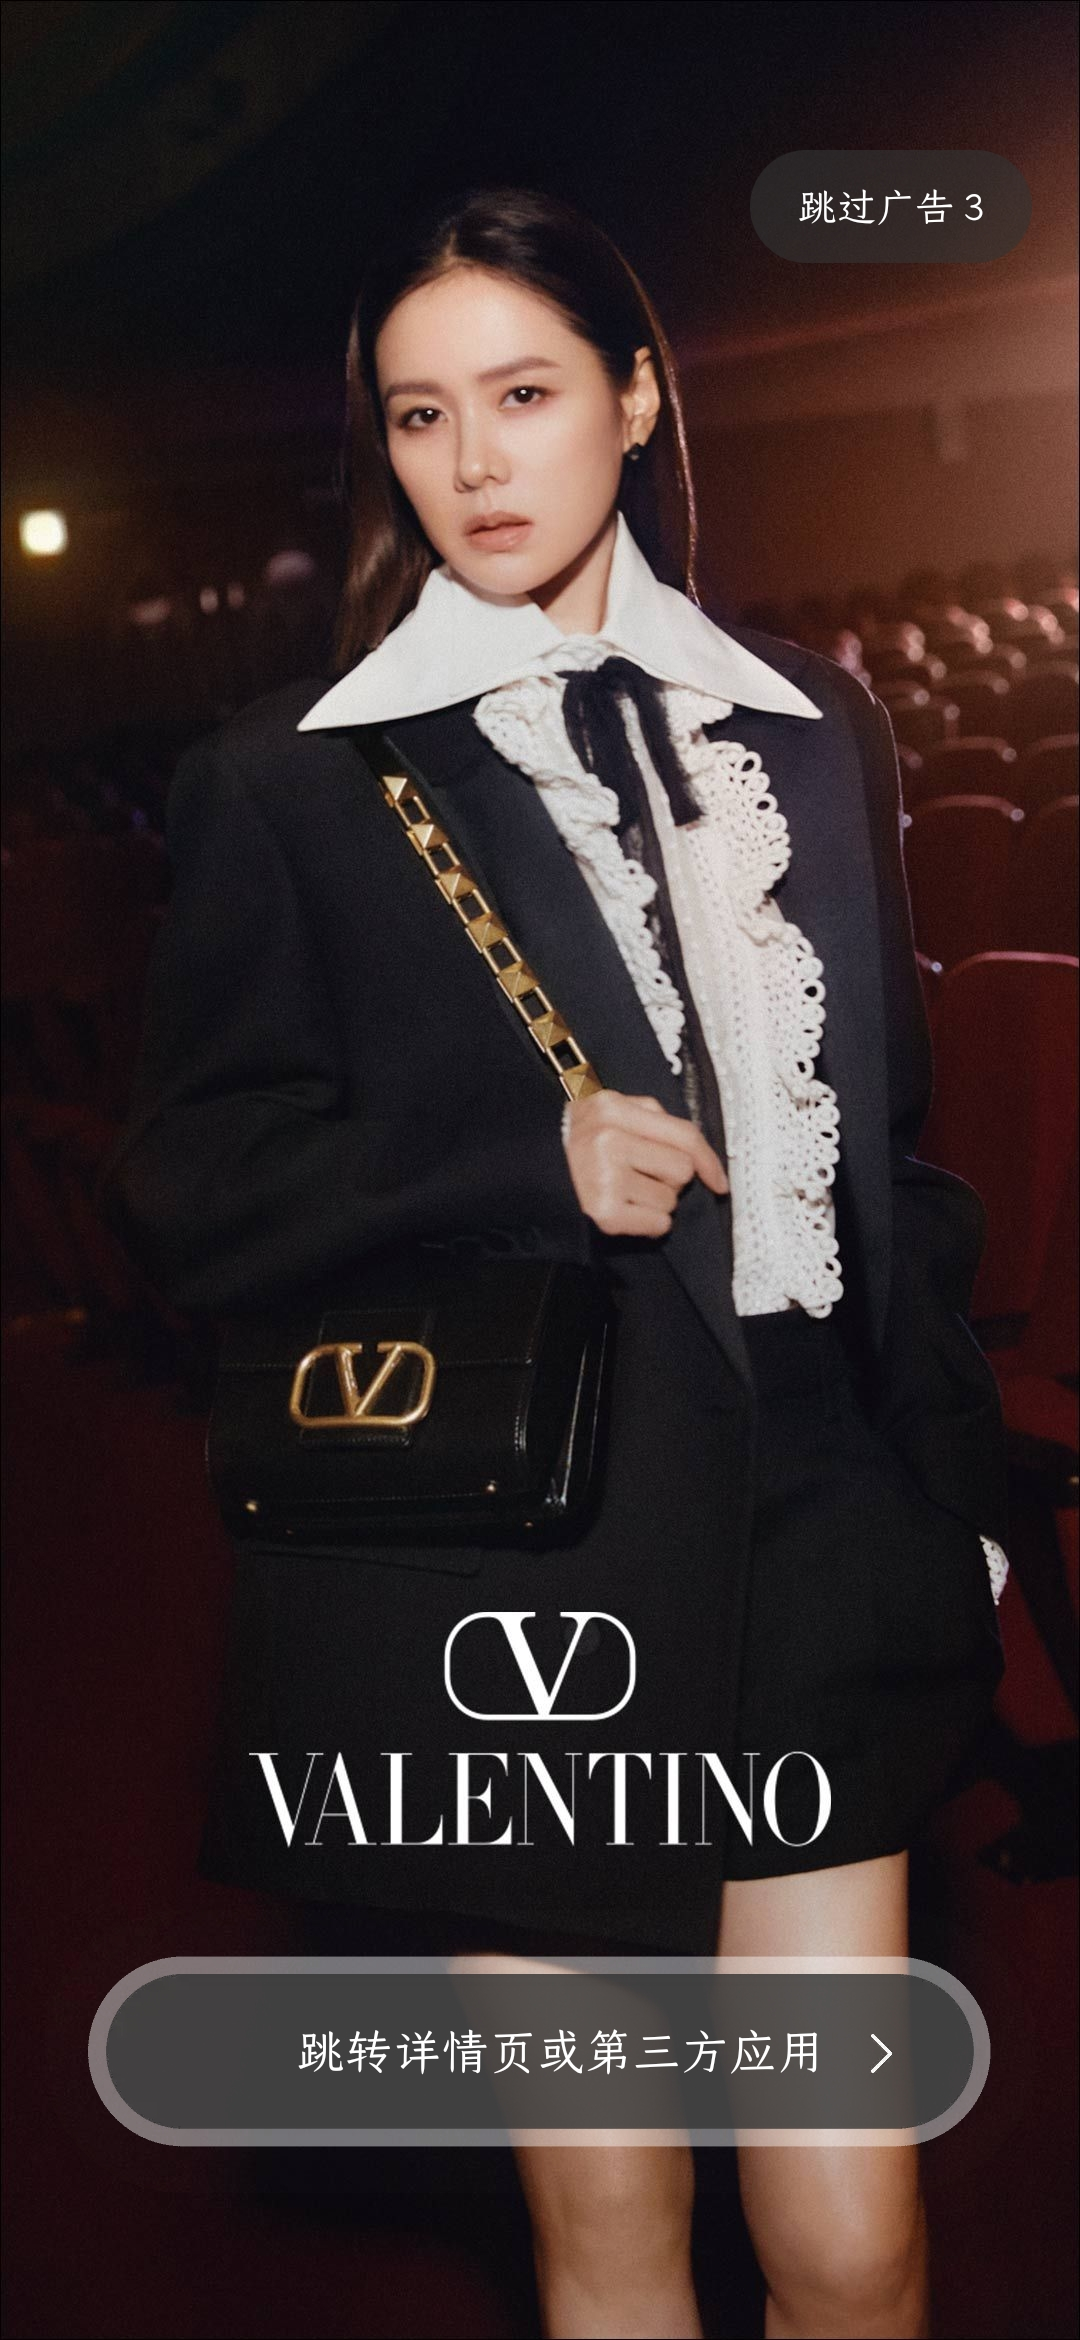skip: (774, 142, 999, 260)
